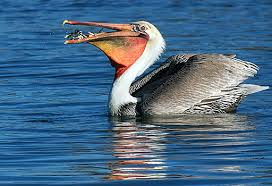pelican: (63, 20, 270, 117)
